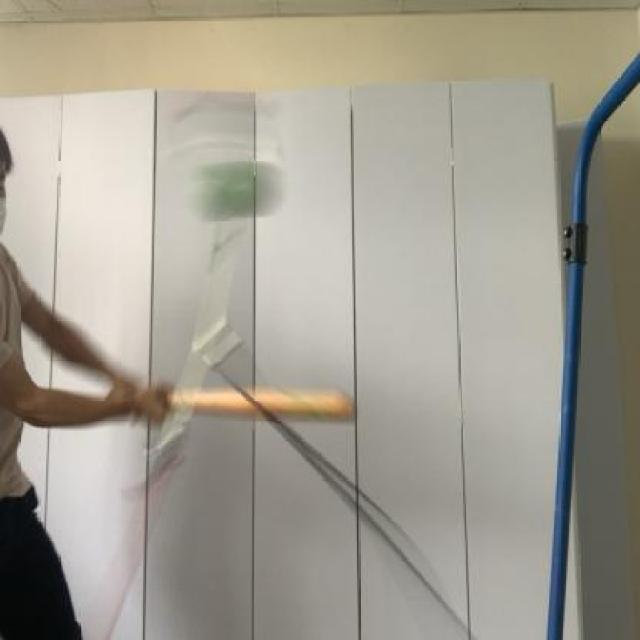baseball: (180, 142, 285, 228)
